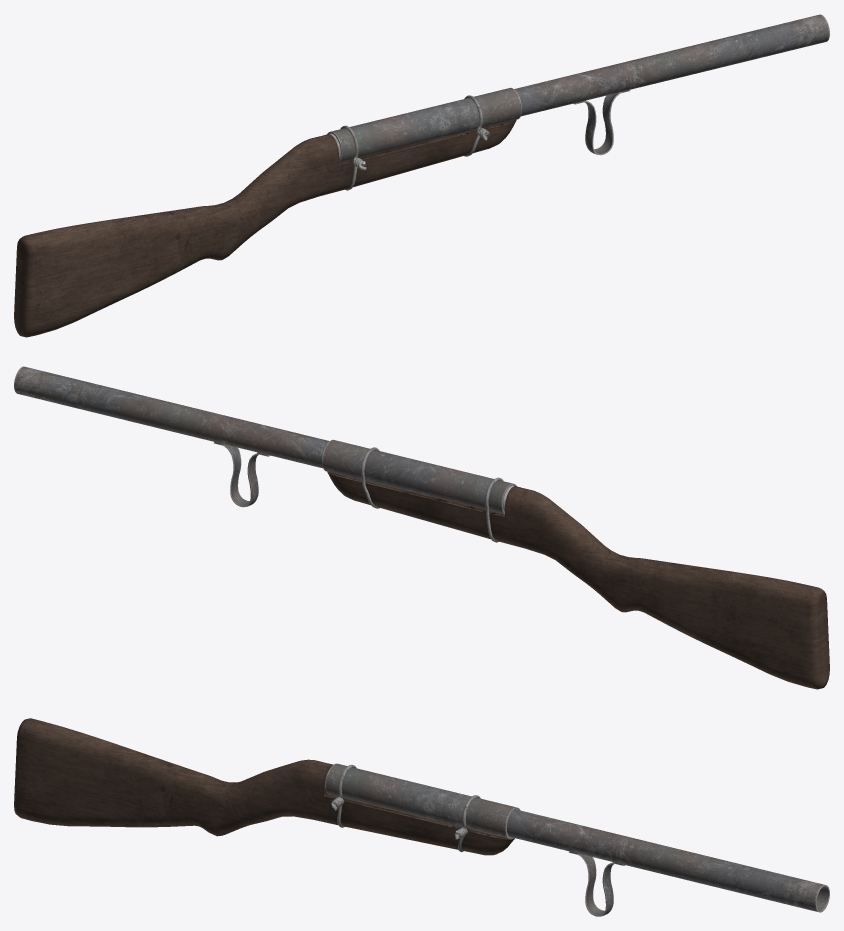
The model's file is gun.fbx.
3 renders of one model, top to bottom at view 1: azimuth 30°, elevation 25°; view 2: azimuth 150°, elevation 25°; view 3: azimuth 330°, elevation 25°, orthographic.
Visible parts, largest first — view 1: wood_low, reloadbarrel_low, barrel_low, grip_low; view 2: wood_low, reloadbarrel_low, barrel_low, grip_low; view 3: wood_low, reloadbarrel_low, barrel_low, grip_low.
Part boxes in pixels (x1,y1,x2,y2): wood_low: (14, 119, 516, 337); reloadbarrel_low: (514, 14, 829, 116); barrel_low: (327, 87, 521, 162); grip_low: (340, 90, 630, 190); wood_low: (327, 471, 829, 689); reloadbarrel_low: (14, 366, 329, 468); barrel_low: (322, 439, 516, 514); grip_low: (213, 442, 503, 542); wood_low: (14, 718, 514, 855); reloadbarrel_low: (506, 809, 829, 912); barrel_low: (325, 763, 520, 839); grip_low: (331, 764, 625, 916).
Bounding box in the file's own units: 326 × 50.71 × 17.85.
Materials: 2 (1 with a texture image).
